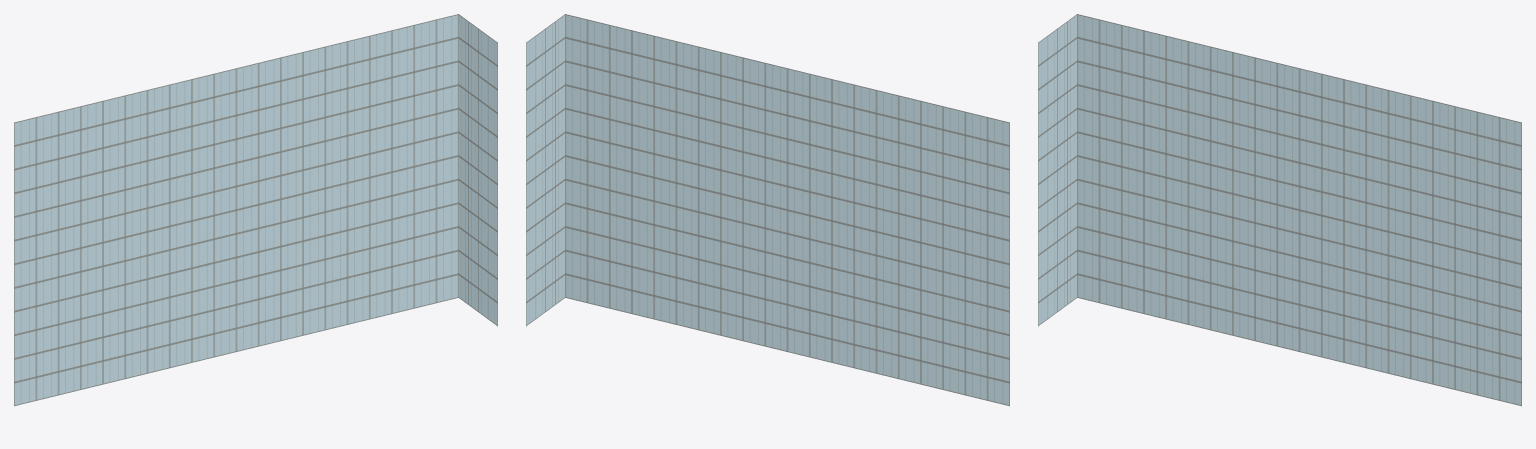
The picture shows the model from 3 angles, left to right: view 1: azimuth 30°, elevation 25°; view 2: azimuth 150°, elevation 25°; view 3: azimuth 330°, elevation 25°; orthographic projection.
Bounding box in the file's own units: 59 × 36 × 9.
Materials: 2 (1 with a texture image).
